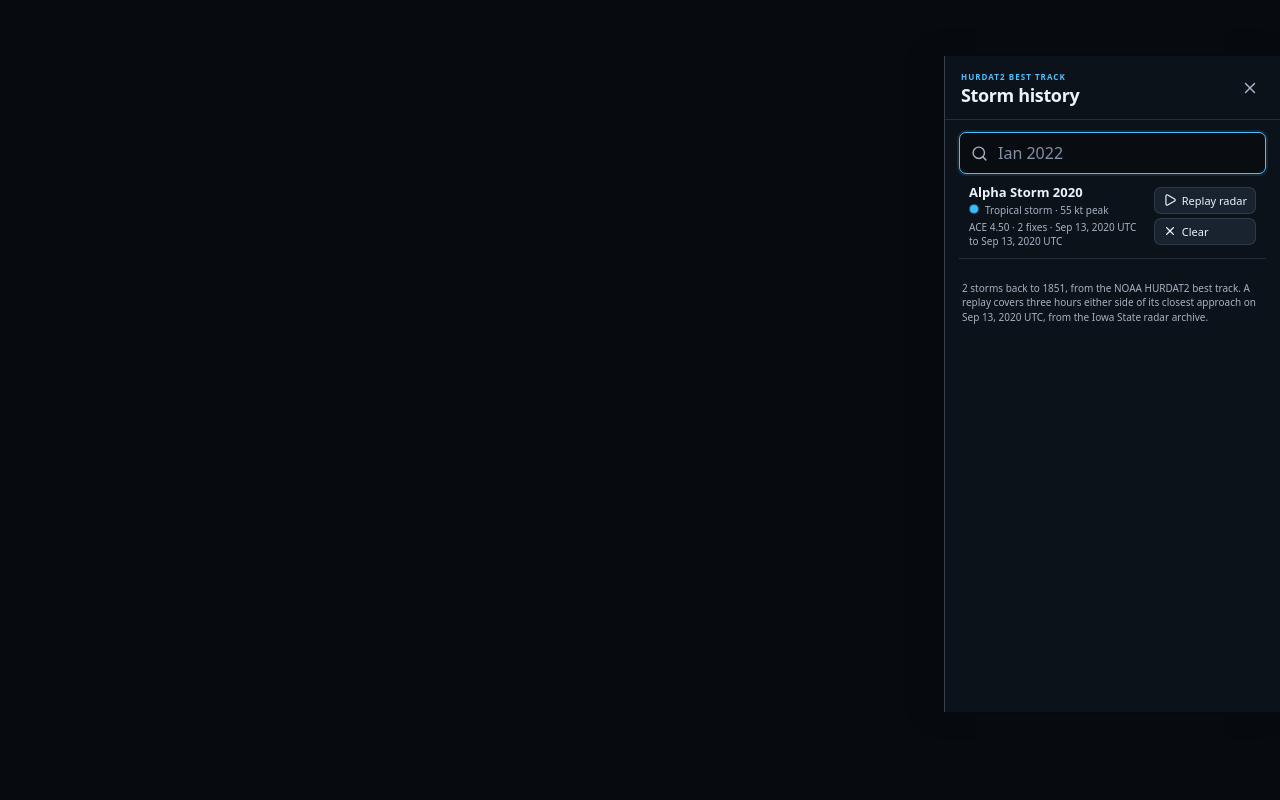
HistoryPanel selection › clears the current error when the selected storm is cleared
The image size is (1280, 800).
Type "storm" into the search field named "Search past storms by name or year" at x=1121, y=153, box [996,141,1246,165]
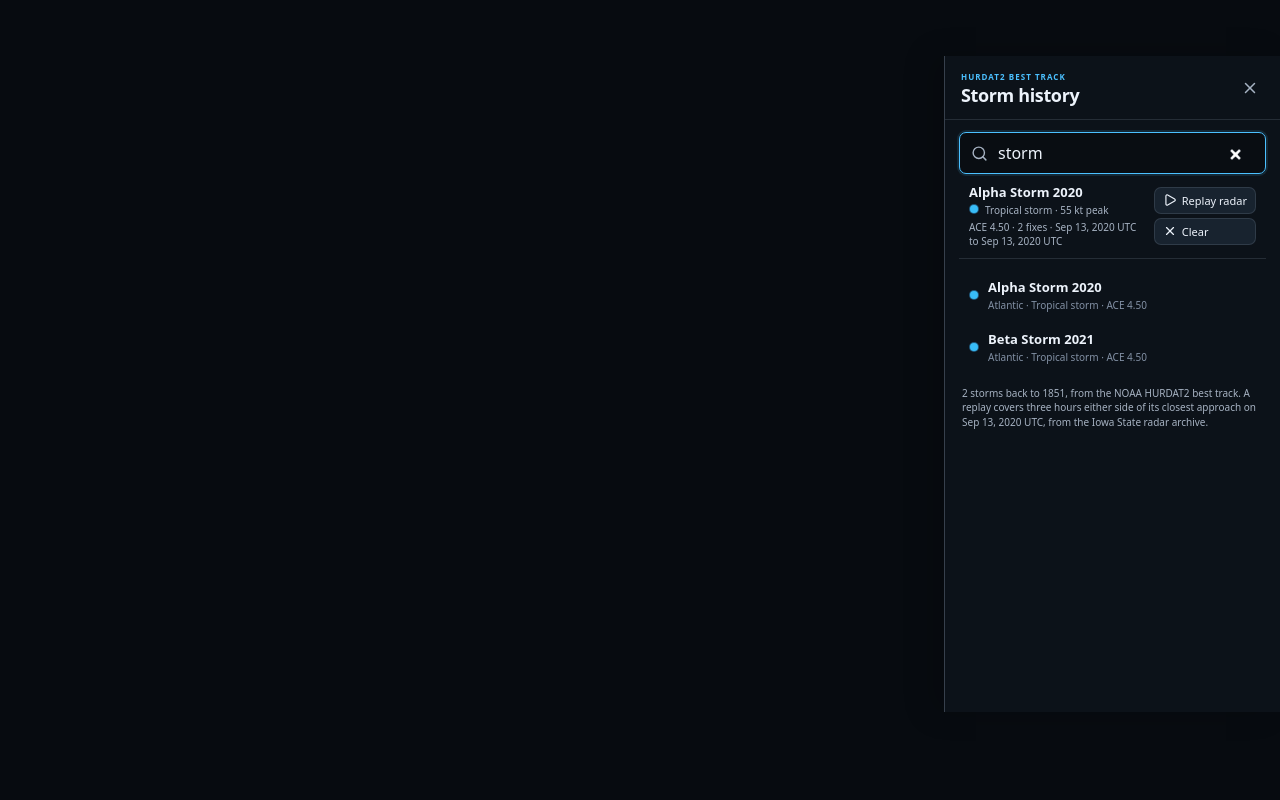
Click the button "Beta Storm 2021 Atlantic · Tropical storm · ACE 4.50" at x=1112, y=347, box [959,321,1266,374]
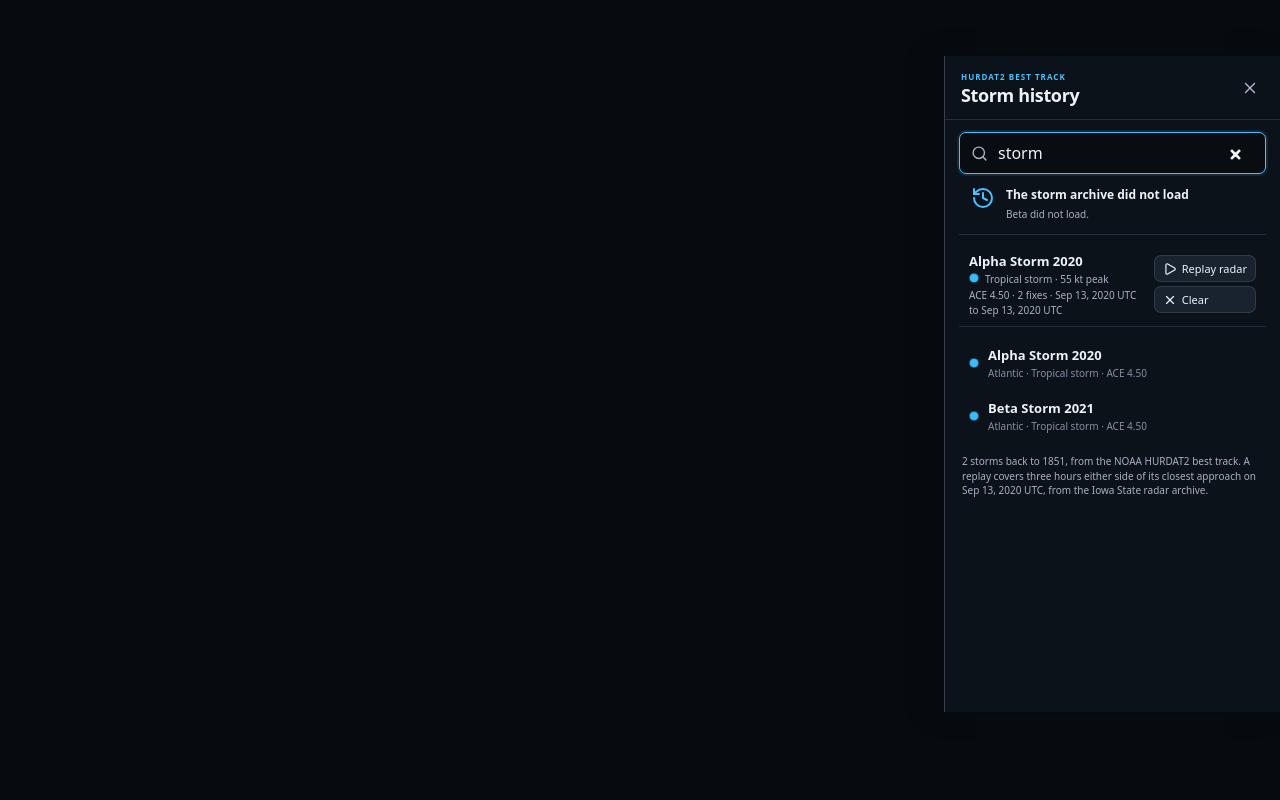
Expected: the text "Beta did not load." is shown, [1006,207,1089,221]
Click the button "Clear" at x=1205, y=300, box [1154,286,1256,313]
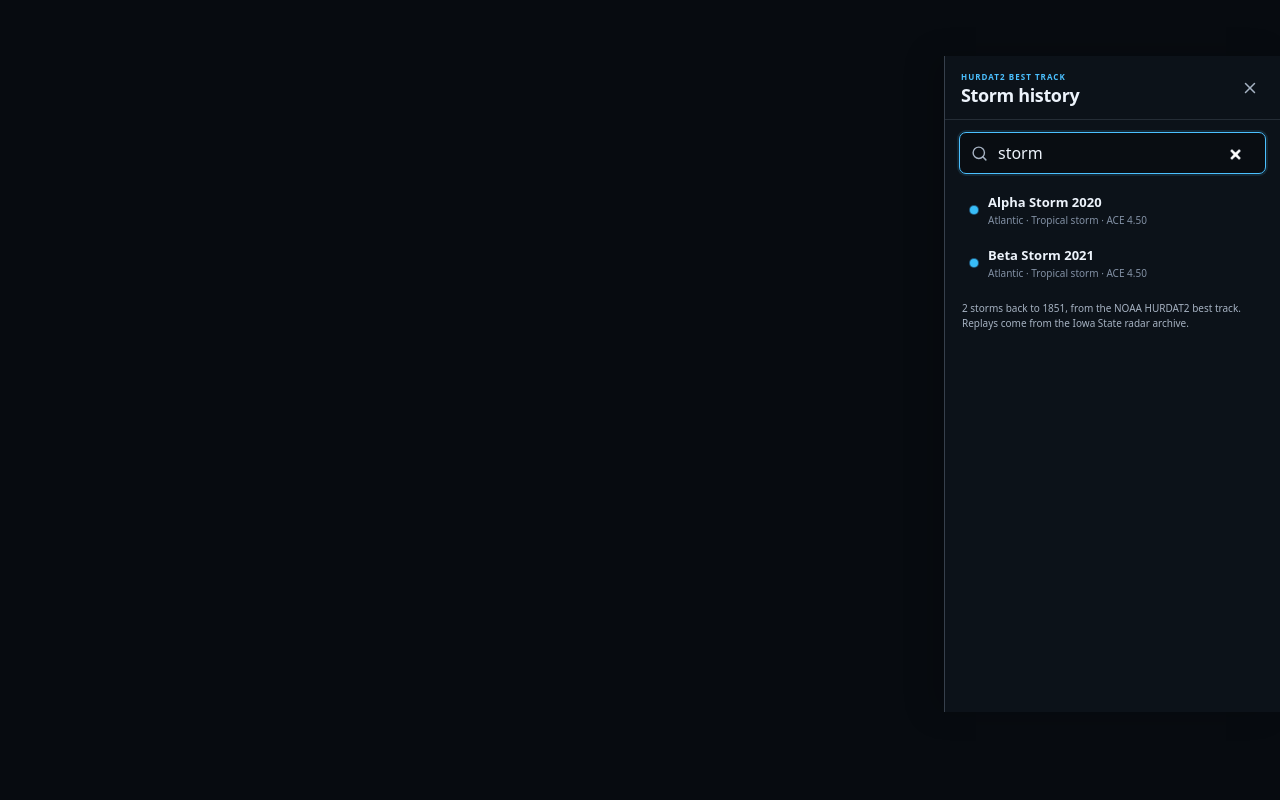
Expected: the text "Beta did not load." is gone
